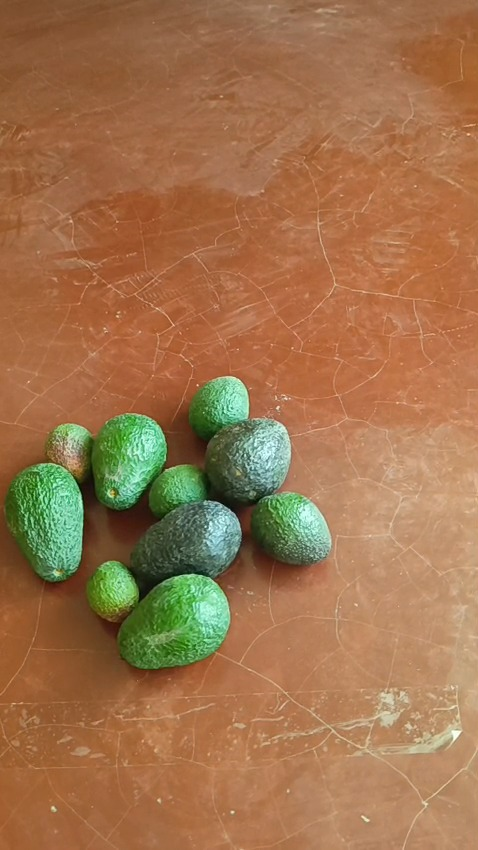Primera: (117, 572, 231, 666), (130, 500, 242, 587), (2, 463, 84, 580), (204, 417, 291, 504), (89, 412, 167, 508)
Segunda: (250, 492, 330, 564), (188, 376, 249, 440)
Tercera: (85, 559, 140, 622), (148, 464, 210, 518), (44, 422, 94, 484)
